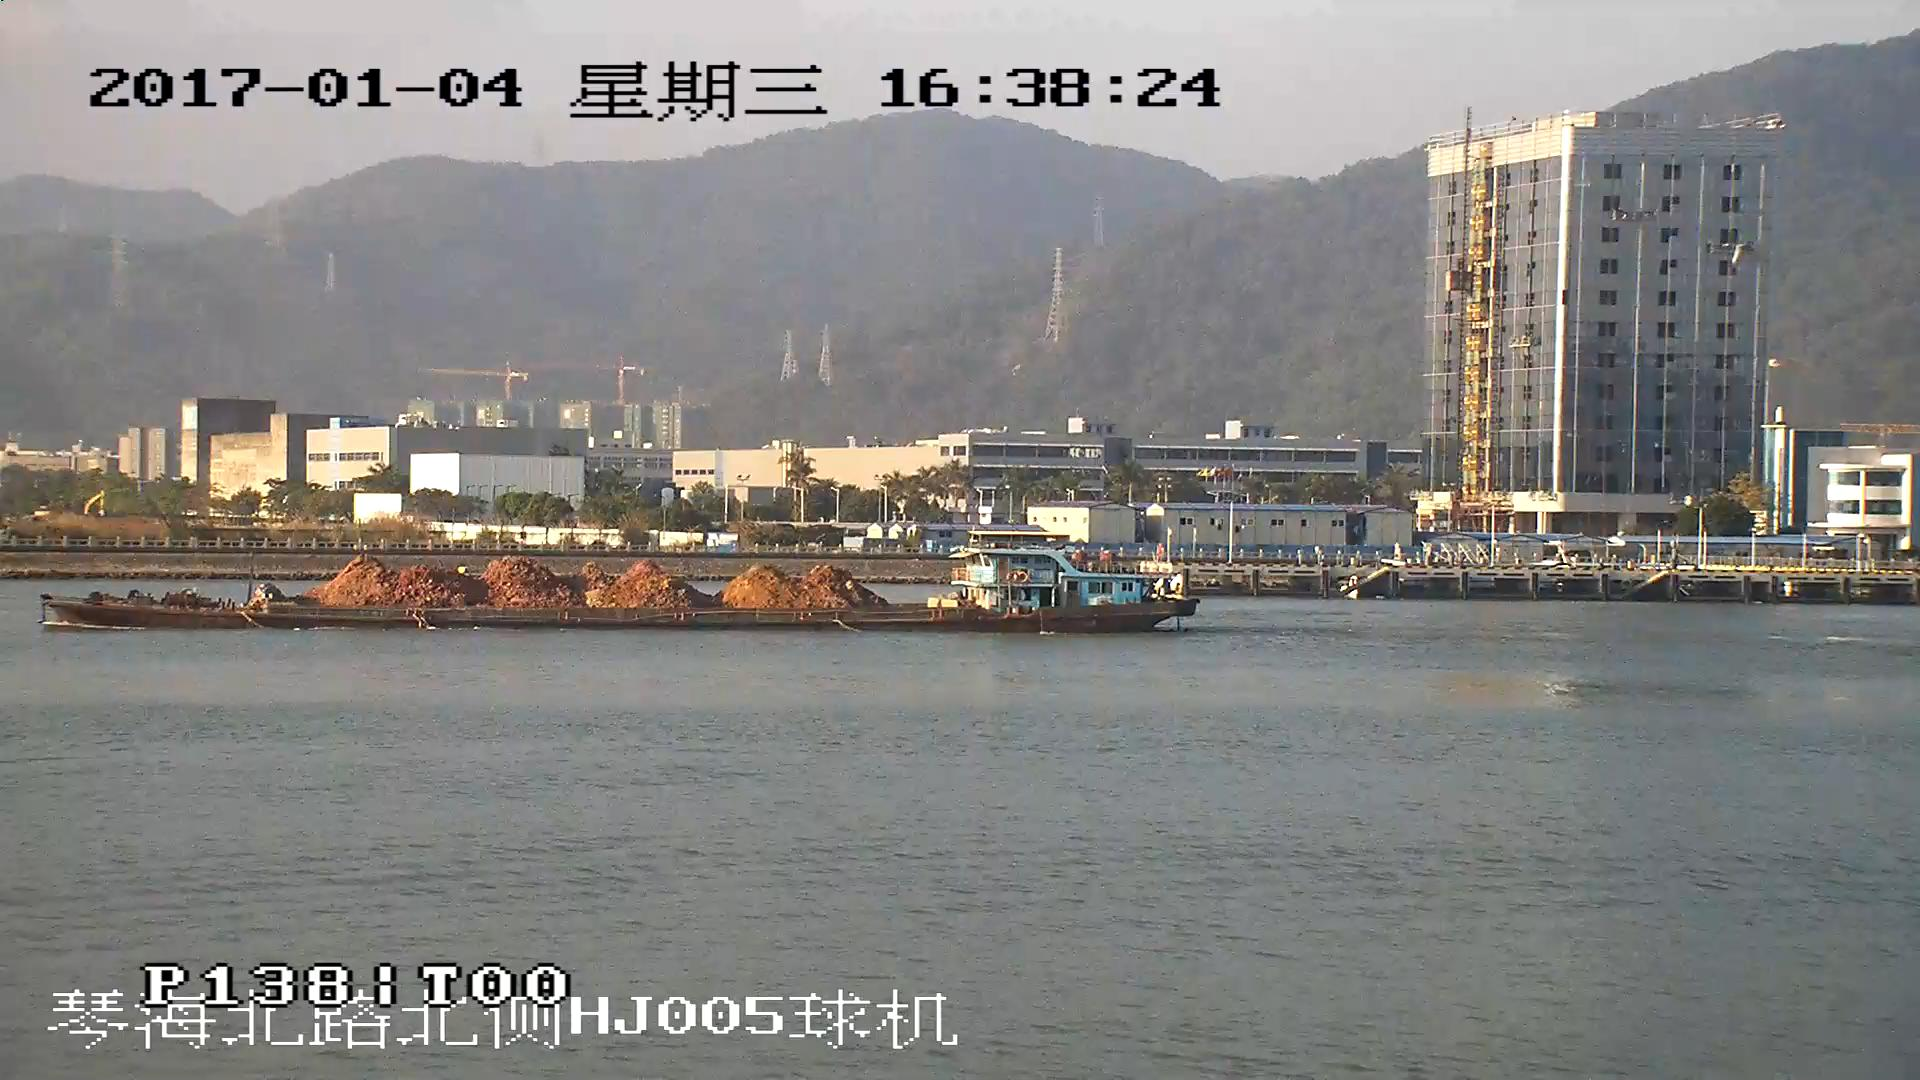ore carrier: (42, 549, 1195, 634)
